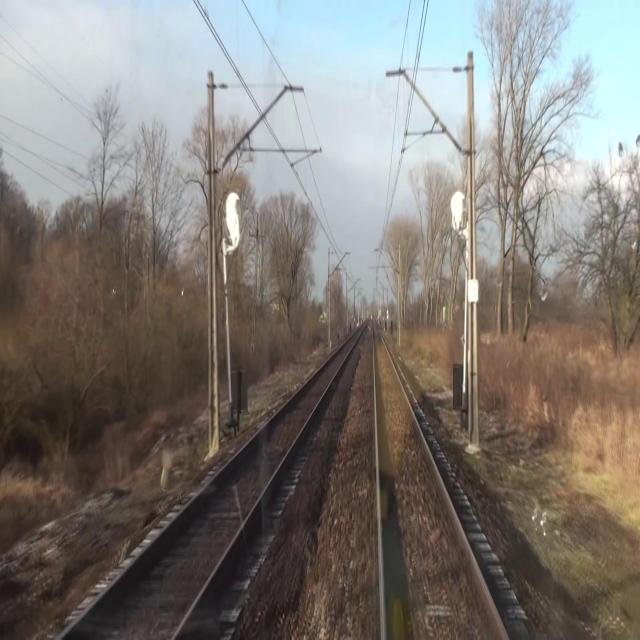rail-track: (62, 328, 360, 639), (374, 322, 503, 639)
